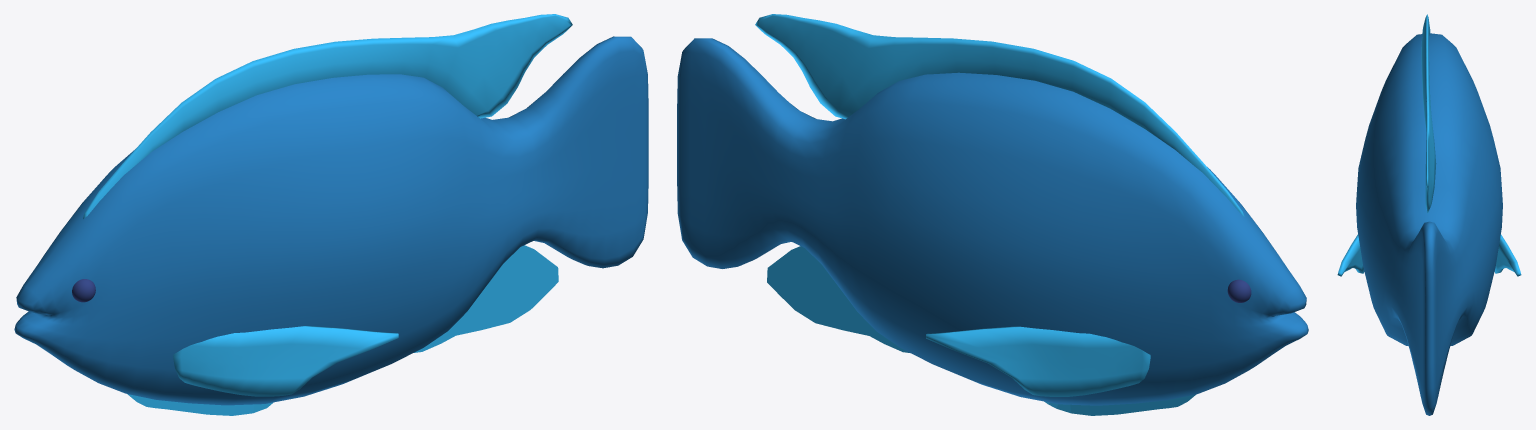
Rendered from blue-fish.fbx.
3 renders of one model, left to right at view 1: azimuth 30°, elevation 25°; view 2: azimuth 150°, elevation 25°; view 3: azimuth 270°, elevation 25°, orthographic. The views are drawn at different scales.
Parts seen in each view (by area): view 1: fish, Plane.001, Plane.004, Plane.003, Plane.002; view 2: fish, Plane.001, Plane.004, Plane.003, Plane.002; view 3: fish, Plane.001, Plane.004.
Part boxes in pixels (left/top/right/bottom): fish: left=14, top=36, right=648, bottom=405; Plane.001: left=83, top=14, right=572, bottom=218; Plane.004: left=173, top=326, right=398, bottom=396; Plane.003: left=414, top=245, right=558, bottom=352; Plane.002: left=127, top=394, right=273, bottom=415; fish: left=677, top=38, right=1308, bottom=405; Plane.001: left=755, top=14, right=1244, bottom=216; Plane.004: left=926, top=326, right=1150, bottom=396; Plane.003: left=767, top=246, right=909, bottom=352; Plane.002: left=1044, top=394, right=1196, bottom=415; fish: left=1356, top=33, right=1502, bottom=415; Plane.001: left=1421, top=14, right=1436, bottom=213; Plane.004: left=1337, top=234, right=1521, bottom=276.
Size of the model in its own units: 124 by 66.65 by 37.71.
